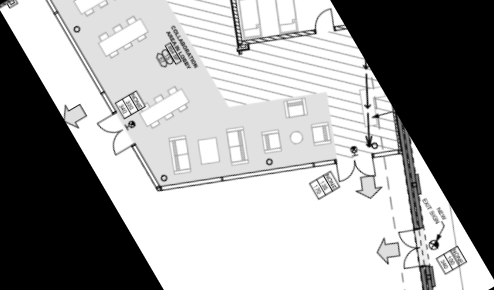door: (183, 0, 271, 50), (308, 4, 342, 37)
double door: (326, 141, 382, 195), (386, 222, 435, 276), (93, 111, 137, 160)
wall: (237, 5, 319, 71)
